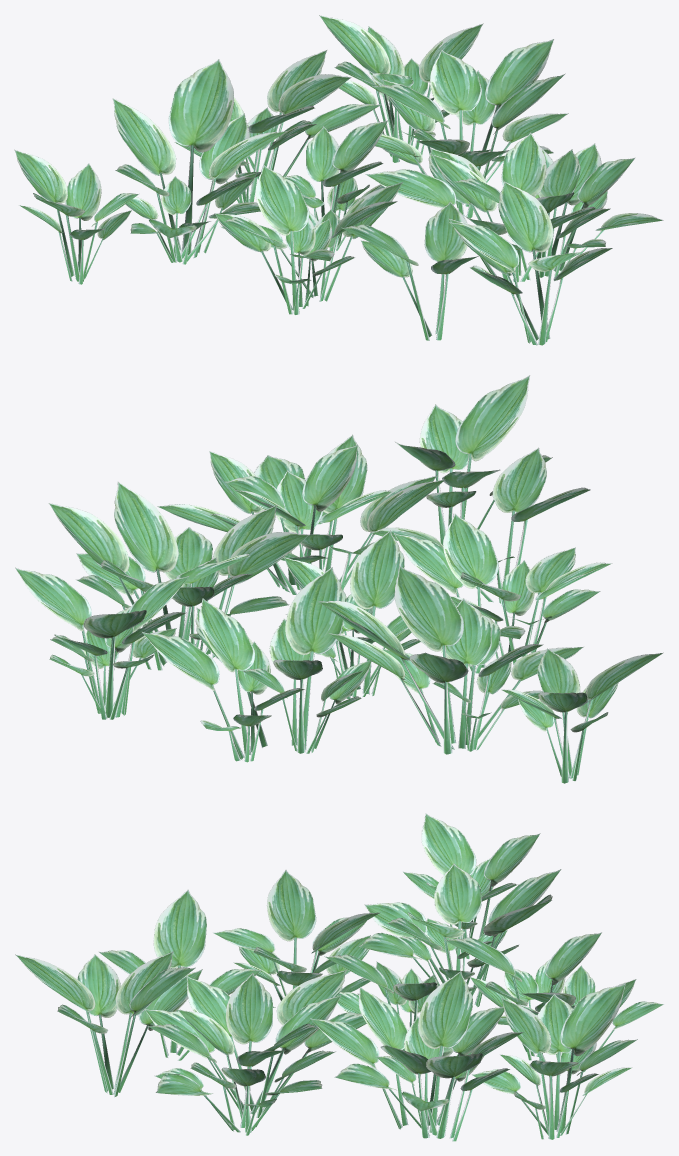
The model's file is cluster_plant_small_wg_03.fbx.
3 views of the same model, one above another, from view 1: azimuth 30°, elevation 25°; view 2: azimuth 150°, elevation 25°; view 3: azimuth 270°, elevation 25° (orthographic). The views are drawn at different scales.
Visible parts, largest first — view 1: cluster_plant_small_wg_03; view 2: cluster_plant_small_wg_03; view 3: cluster_plant_small_wg_03.
Boxes of the visible parts, <box> form: cluster_plant_small_wg_03: <box>14,15,663,345</box>; cluster_plant_small_wg_03: <box>15,375,663,783</box>; cluster_plant_small_wg_03: <box>15,813,663,1141</box>.
Size of the model in its own units: 203 by 52.72 by 215.
